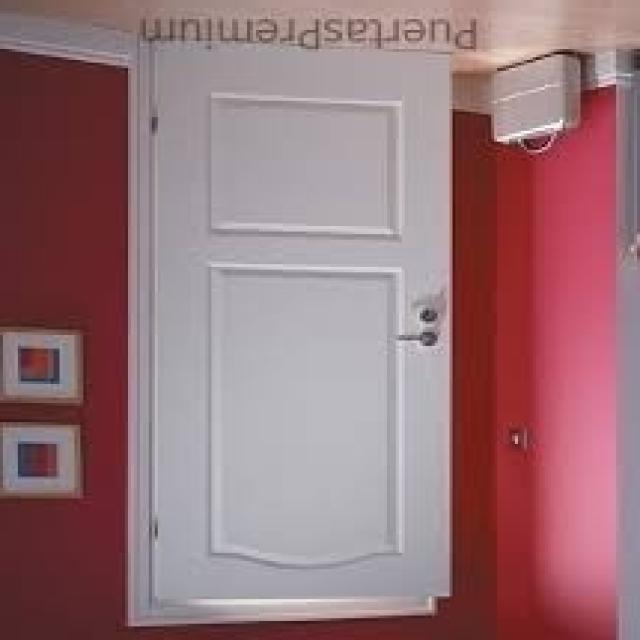door: (141, 37, 454, 617)
